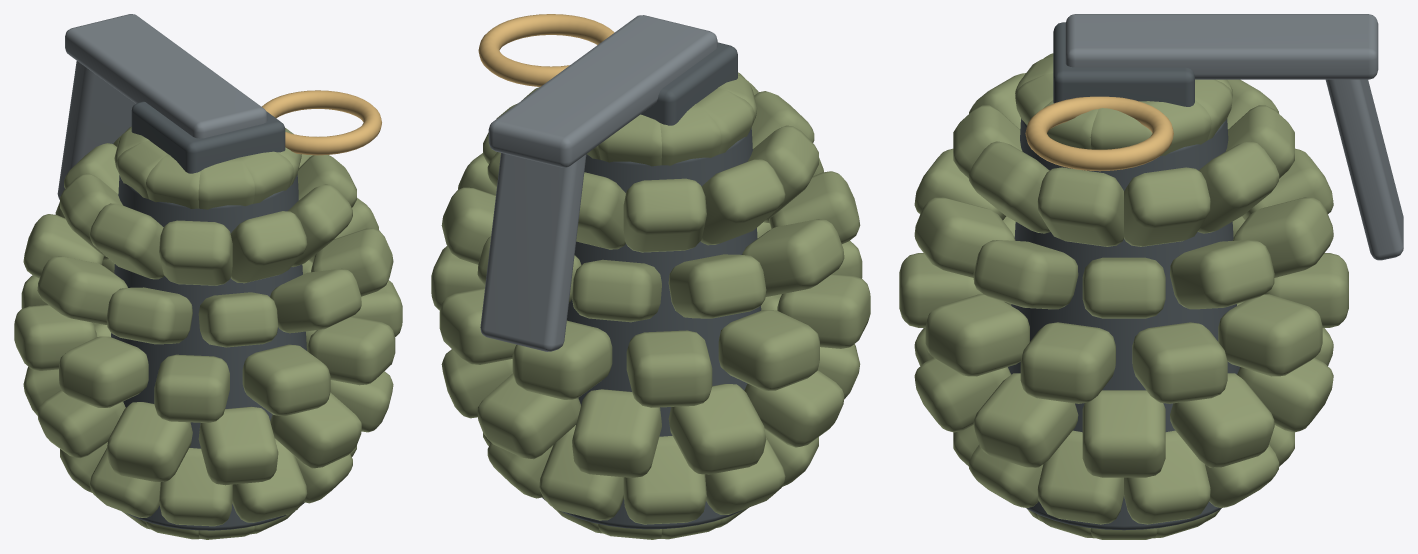
File: frag.glb
3 views of the same model, side by side, from view 1: azimuth 30°, elevation 25°; view 2: azimuth 150°, elevation 25°; view 3: azimuth 270°, elevation 25° (orthographic). The views are drawn at different scales.
Parts seen in each view (by area): view 1: Olive, Steel, Dark, Brass; view 2: Olive, Steel, Dark, Brass; view 3: Olive, Steel, Dark, Brass.
Boxes of the visible parts, x1,y1,x2,y2 form: Olive: (14,126,402,539); Steel: (57,14,267,199); Dark: (111,101,306,530); Brass: (262,90,381,155); Olive: (431,72,870,539); Steel: (480,15,717,351); Dark: (542,42,761,529); Brass: (478,14,614,86); Olive: (899,53,1348,539); Steel: (1065,14,1403,260); Dark: (1008,22,1240,530); Brass: (1025,96,1173,171).
Size of the model in its own units: 0.0905 by 0.1076 by 0.1032.
